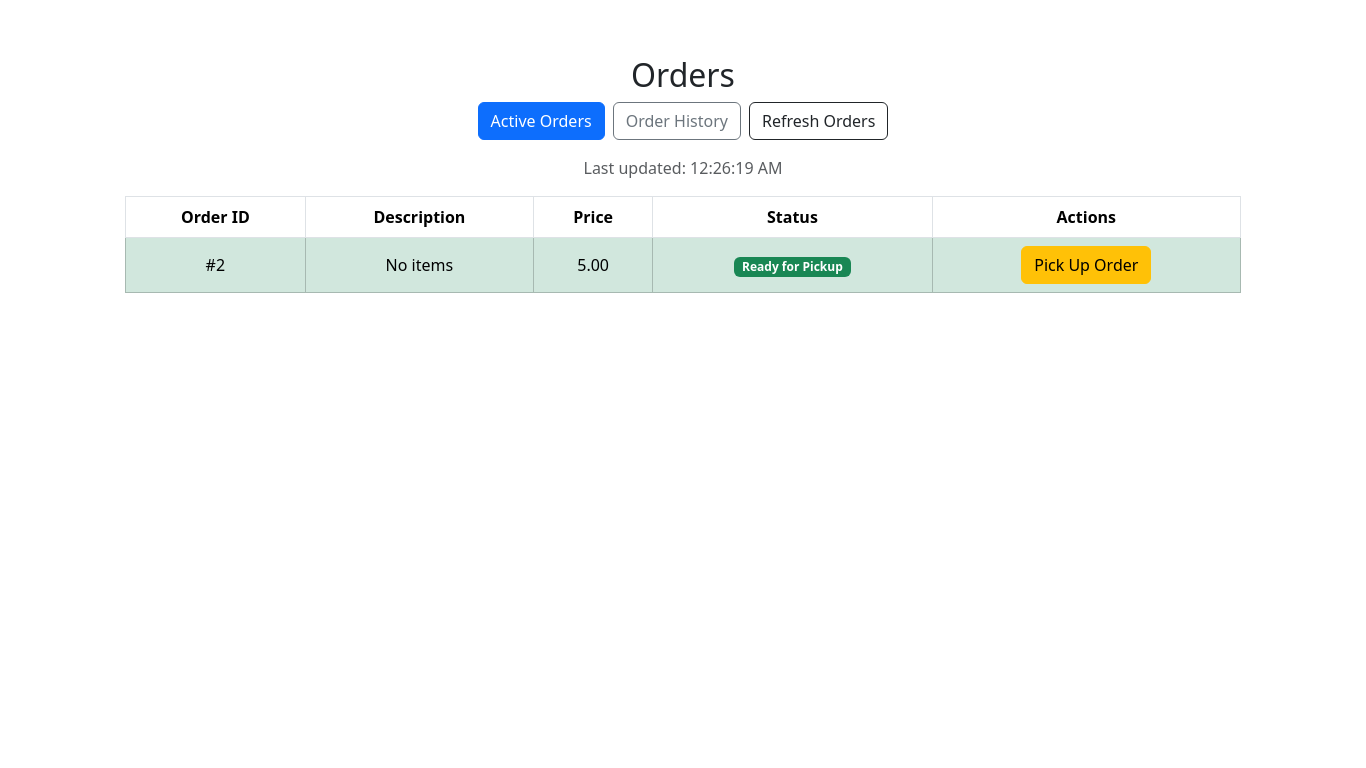
Test: OrdersComponent › ST2: allows pickup for ready orders and removes picked up order
The image size is (1366, 768).
Step 1. Click the button "Pick Up Order" → (1086, 265), box [1021,246,1151,284]
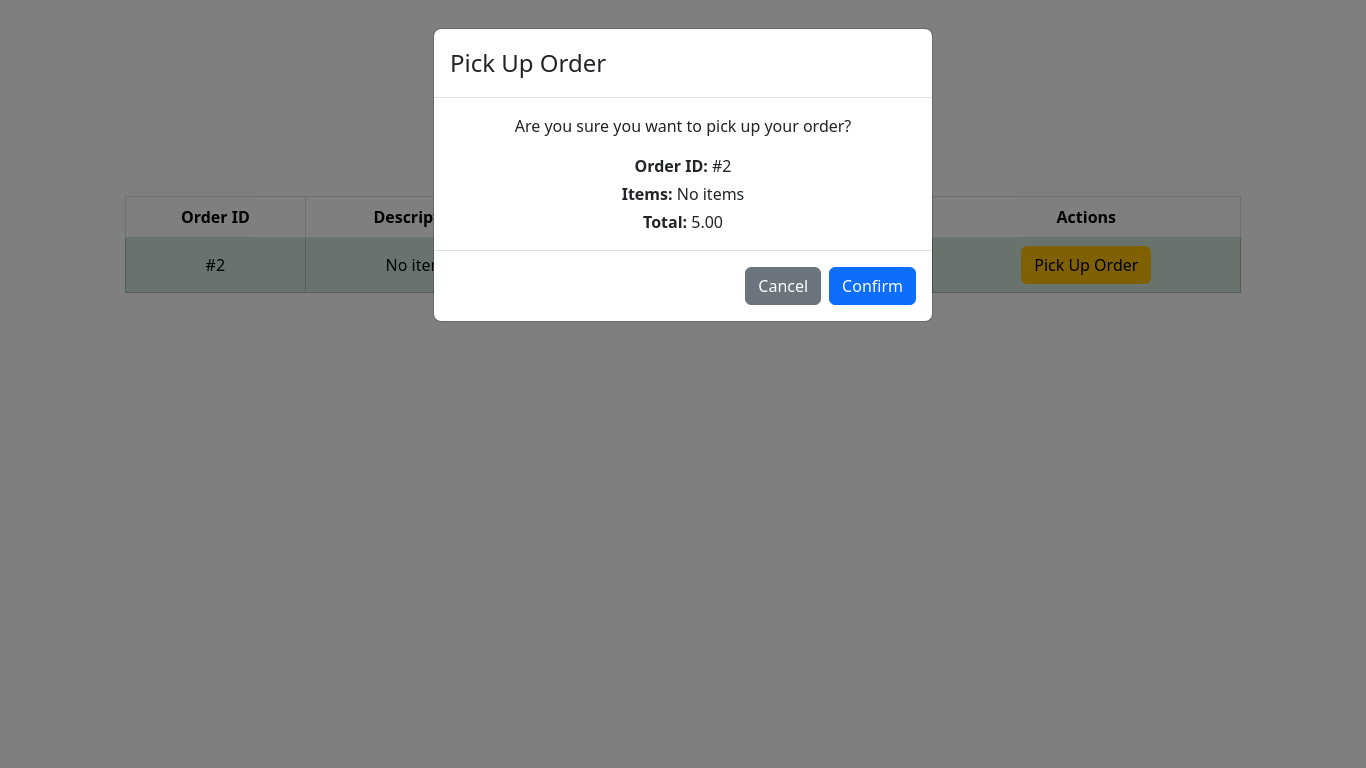
Step 2. Click the button "Confirm" → (873, 286), box [829,267,916,305]
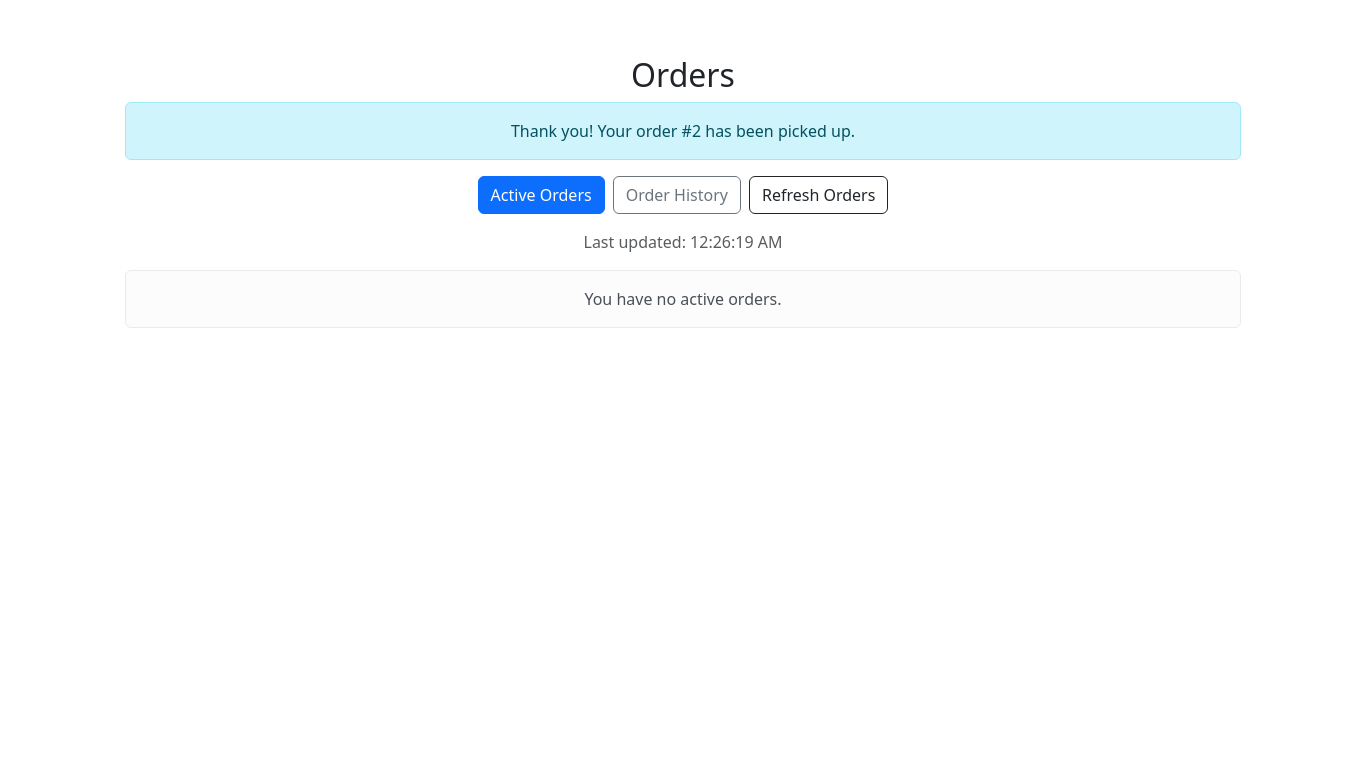
Now the text "Thank you! Your order #2 has been picked up." is shown, box [125,102,1241,160]
